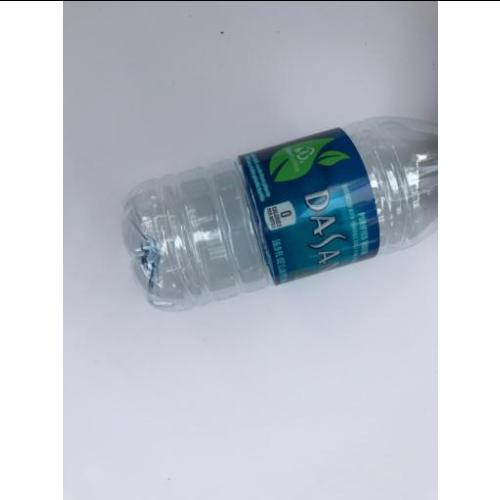plastic: (119, 112, 439, 313)
